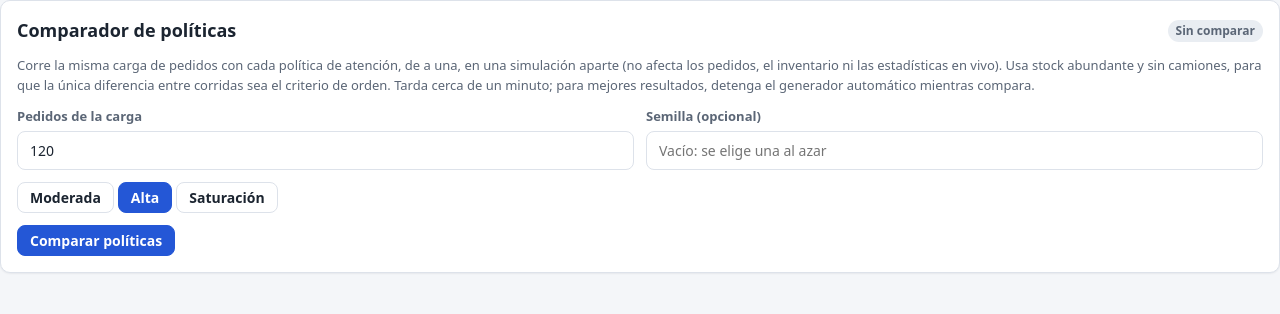
BenchmarkPanel › blocks the start when the seed is not a number
In the field labelled "Semilla (opcional)": (954, 150) left=646, top=130, right=1263, bottom=170, type "abc"
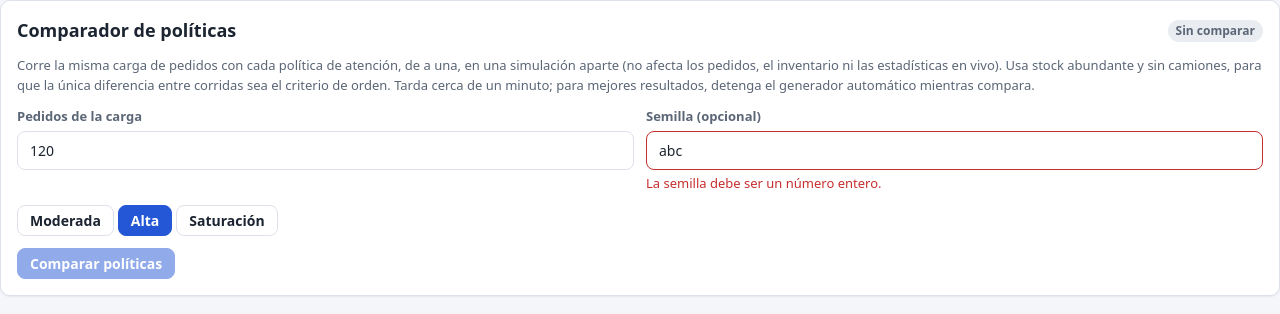
Expected: the button "Comparar políticas" is disabled, left=17, top=248, right=175, bottom=279
